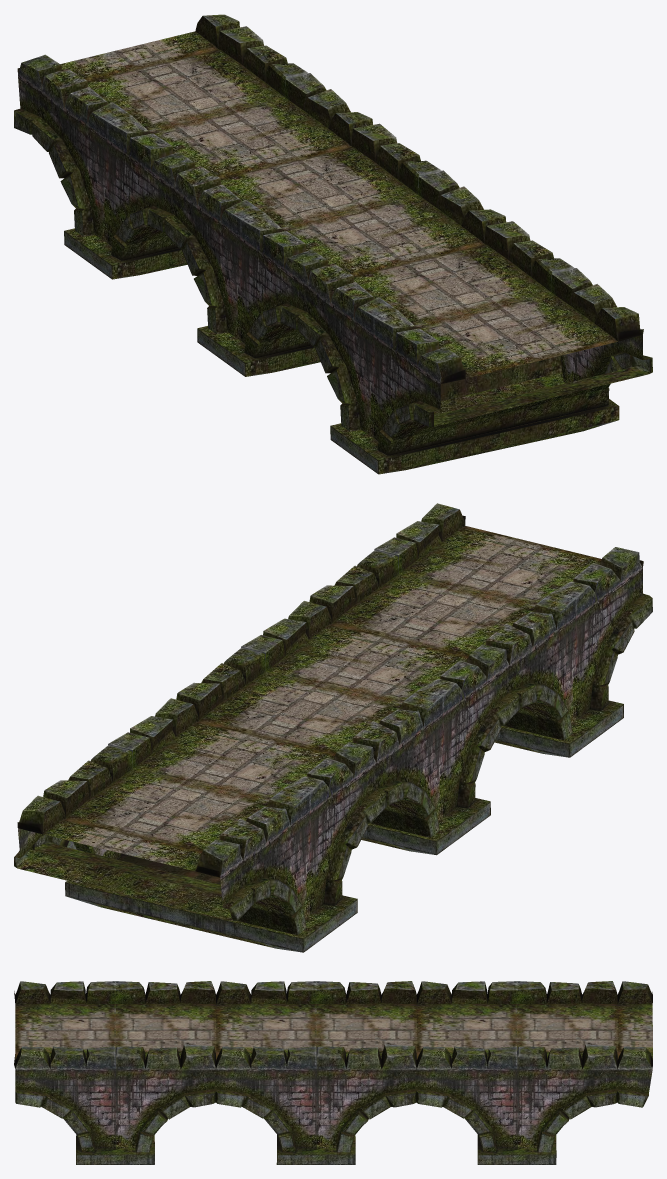
The model's file is bridgeTop.glb.
3 views of the same model, one above another, from view 1: azimuth 30°, elevation 25°; view 2: azimuth 150°, elevation 25°; view 3: azimuth 270°, elevation 25° (orthographic). The views are drawn at different scales.
Parts seen in each view (by area): view 1: BridgeEast, BridgeWest, BridgeCenter; view 2: BridgeWest, BridgeCenter, BridgeEast; view 3: BridgeWest, BridgeCenter, BridgeEast.
Boxes of the visible parts, <box> form: BridgeEast: <box>299,221,652,474</box>; BridgeWest: <box>14,14,371,279</box>; BridgeCenter: <box>161,119,506,376</box>; BridgeWest: <box>14,698,384,952</box>; BridgeCenter: <box>176,601,523,855</box>; BridgeEast: <box>309,503,652,757</box>; BridgeWest: <box>418,981,652,1164</box>; BridgeCenter: <box>211,981,424,1164</box>; BridgeEast: <box>14,981,215,1164</box>.
Bounding box in the file's own units: 5.48 × 3.24 × 16.72.
1 material, 1 textured.
